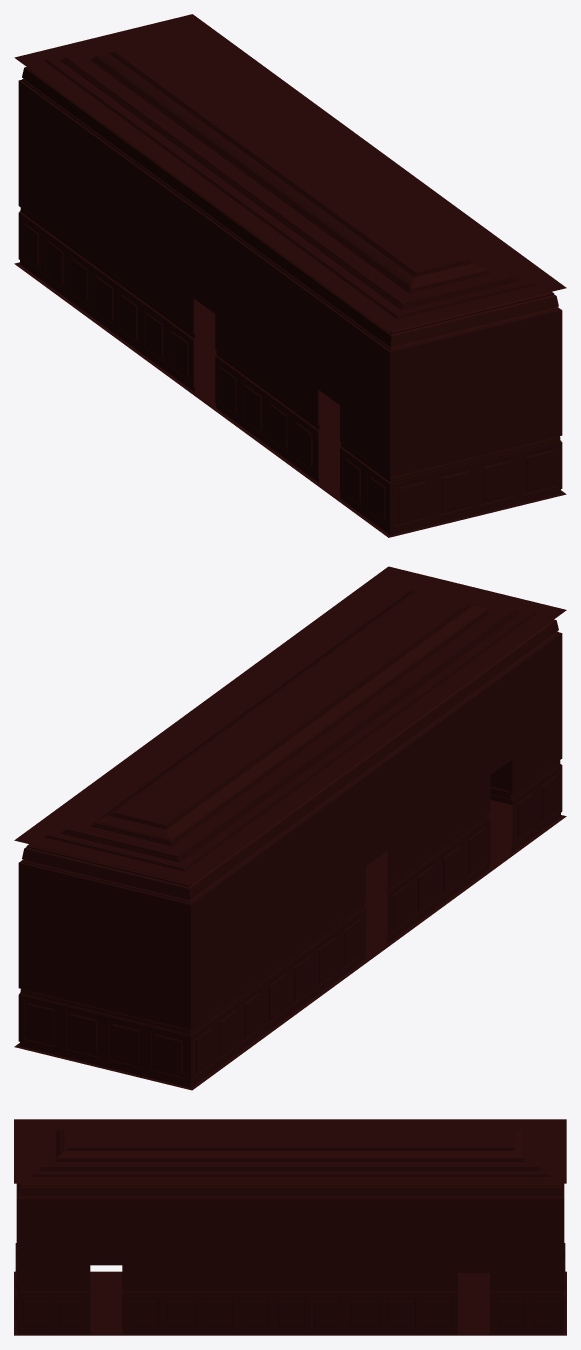
Rendered from main_hallway.FBX.
3 renders of one model, top to bottom at view 1: azimuth 30°, elevation 25°; view 2: azimuth 150°, elevation 25°; view 3: azimuth 270°, elevation 25°, orthographic. The views are drawn at different scales.
Parts seen in each view (by area): view 1: walls, ceiling, floor; view 2: walls, ceiling, floor; view 3: walls, ceiling, floor.
Part boxes in pixels (x1=…): walls: x1=14, y1=14, x2=566, y2=537; ceiling: x1=14, y1=14, x2=548, y2=328; floor: x1=15, y1=262, x2=565, y2=537; walls: x1=14, y1=566, x2=566, y2=1090; ceiling: x1=14, y1=574, x2=566, y2=883; floor: x1=15, y1=800, x2=565, y2=1089; walls: x1=14, y1=1119, x2=566, y2=1335; ceiling: x1=14, y1=1119, x2=566, y2=1183; floor: x1=14, y1=1271, x2=566, y2=1335.
Size of the model in its own units: 160 by 583 by 192.
